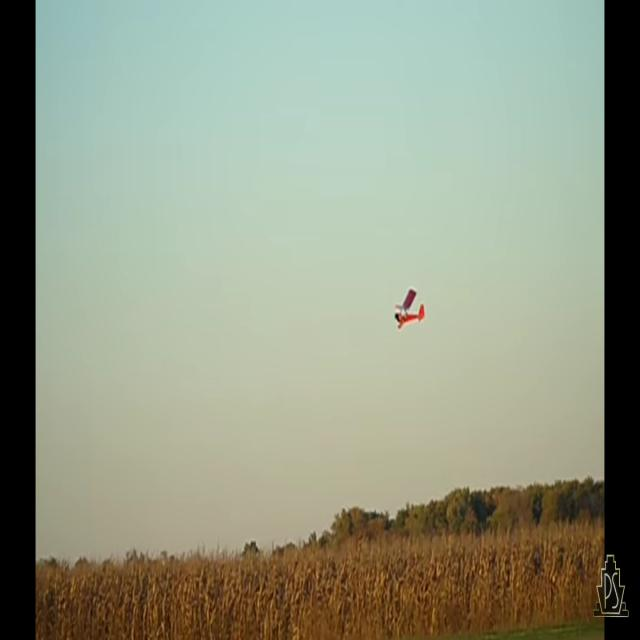iha: (394, 287, 426, 331)
